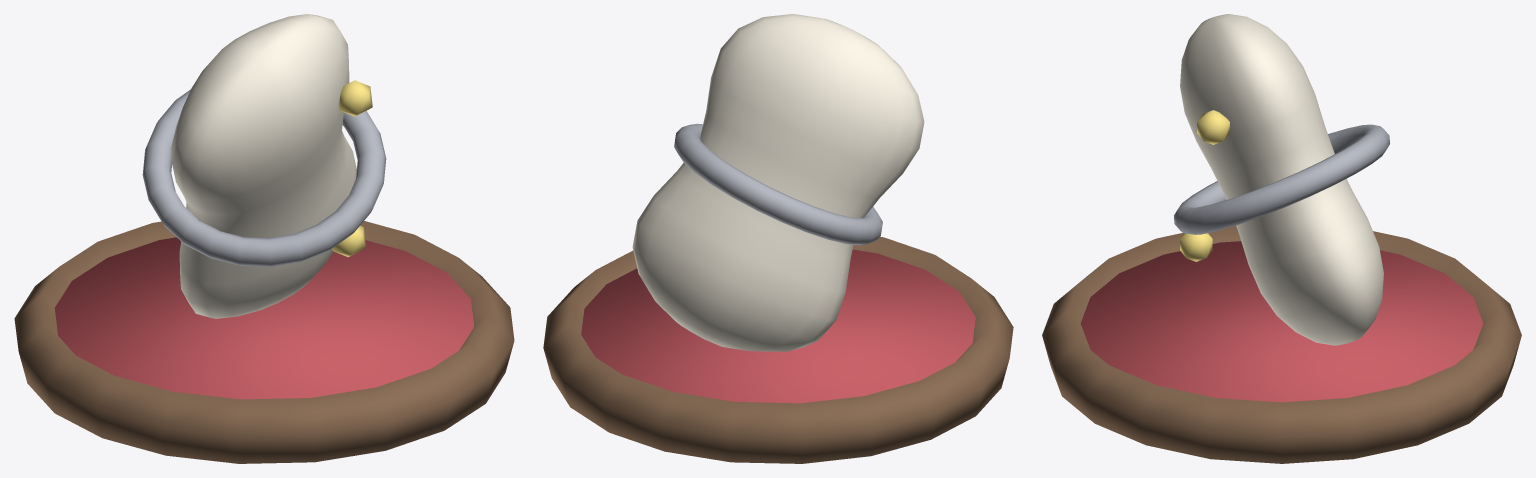
The model's file is REL_KNUCKLE.glb.
3 views of the same model, side by side, from view 1: azimuth 30°, elevation 25°; view 2: azimuth 150°, elevation 25°; view 3: azimuth 270°, elevation 25° (orthographic). The views are drawn at different scales.
Visible parts, largest first — view 1: VelvetPad, TrayRim, AstragalusBone, SilverRuneBand, GoldPip0.014, GoldPip0.01; view 2: AstragalusBone, TrayRim, VelvetPad, SilverRuneBand; view 3: VelvetPad, TrayRim, AstragalusBone, SilverRuneBand, GoldPip0.014, GoldPip0.01.
Part boxes in pixels (x1=…): VelvetPad: x1=54, y1=237, x2=474, y2=399; TrayRim: x1=14, y1=221, x2=514, y2=463; AstragalusBone: x1=171, y1=14, x2=356, y2=318; SilverRuneBand: x1=142, y1=89, x2=386, y2=266; GoldPip0.014: x1=338, y1=80, x2=372, y2=116; GoldPip0.01: x1=332, y1=225, x2=366, y2=257; AstragalusBone: x1=632, y1=14, x2=924, y2=351; TrayRim: x1=543, y1=236, x2=1013, y2=463; VelvetPad: x1=581, y1=249, x2=975, y2=403; SilverRuneBand: x1=674, y1=123, x2=882, y2=245; VelvetPad: x1=1080, y1=241, x2=1483, y2=402; TrayRim: x1=1042, y1=225, x2=1521, y2=463; AstragalusBone: x1=1180, y1=14, x2=1383, y2=345; SilverRuneBand: x1=1174, y1=124, x2=1389, y2=234; GoldPip0.014: x1=1197, y1=110, x2=1229, y2=144; GoldPip0.01: x1=1180, y1=233, x2=1212, y2=261.
Size of the model in its own units: 0.112 by 0.0875 by 0.112.
